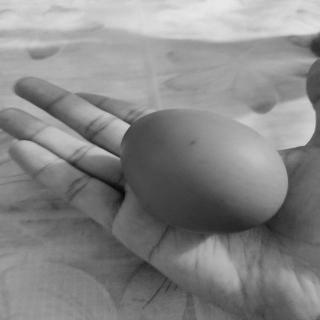Telur: (119, 109, 291, 235)
